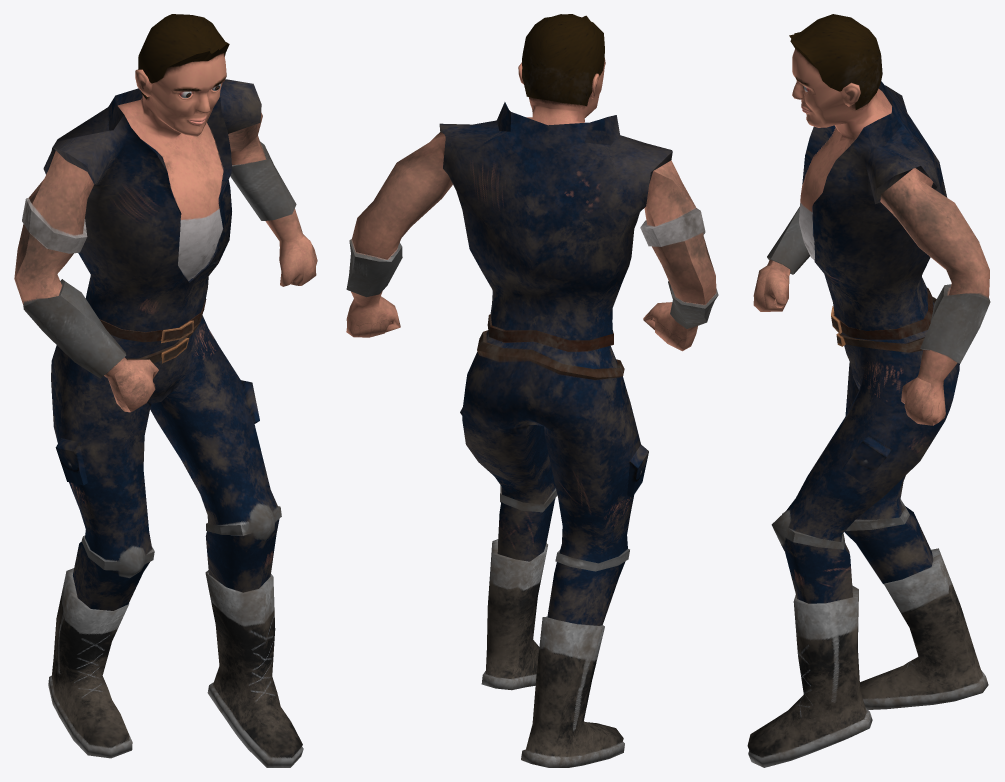
The model's file is Anim_dash_jugador.0017.obj.
3 renders of one model, left to right at view 1: azimuth 30°, elevation 25°; view 2: azimuth 150°, elevation 25°; view 3: azimuth 270°, elevation 25°, orthographic. The views are drawn at different scales.
Visible parts, largest first — view 1: polySurface1; view 2: polySurface1; view 3: polySurface1.
Part boxes in pixels (x1,y1,x2,y2): polySurface1: (14, 14, 317, 767); polySurface1: (346, 14, 718, 767); polySurface1: (747, 14, 990, 767).
Size of the model in its own units: 4.62 by 9.5 by 2.93.
